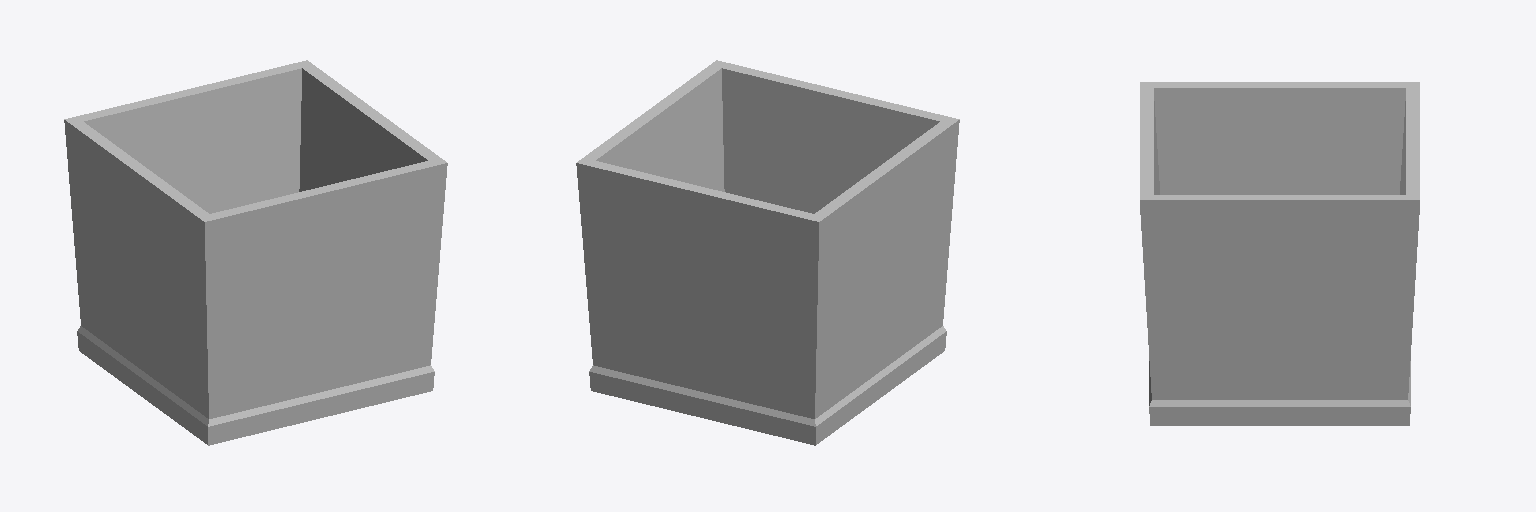
The model's file is procgen_room.obj.
The picture shows the model from 3 angles: view 1: azimuth 30°, elevation 25°; view 2: azimuth 150°, elevation 25°; view 3: azimuth 270°, elevation 25°; orthographic projection.
Parts seen in each view (by area): view 1: Cube; view 2: Cube; view 3: Cube.
Boxes of the visible parts, x1=… form: Cube: x1=64, y1=60, x2=447, y2=445; Cube: x1=576, y1=60, x2=959, y2=445; Cube: x1=1140, y1=82, x2=1419, y2=425.
Bounding box in the file's own units: 2.22 × 2 × 2.22.